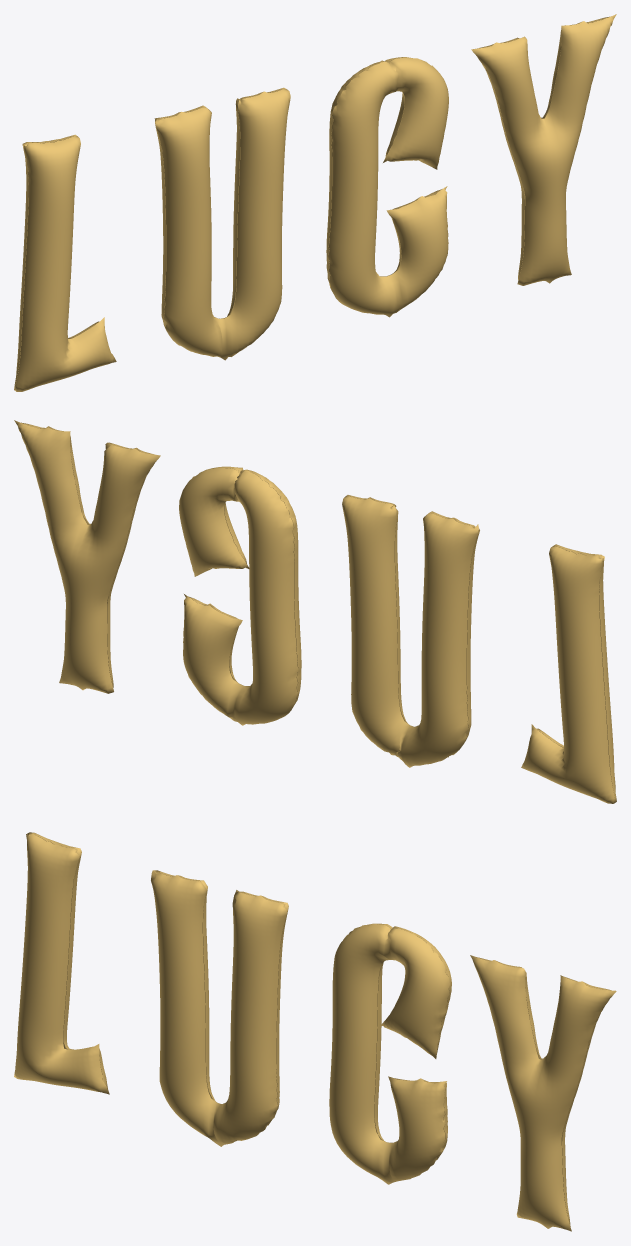
The picture shows the model from 3 angles, top to bottom: view 1: azimuth 30°, elevation 25°; view 2: azimuth 150°, elevation 25°; view 3: azimuth 330°, elevation 25°; orthographic projection.
Visible parts, largest first — view 1: Balloon.U_21, Balloon.C_3, Balloon.Y_24, Balloon.L_12; view 2: Balloon.U_21, Balloon.C_3, Balloon.Y_24, Balloon.L_12; view 3: Balloon.U_21, Balloon.C_3, Balloon.Y_24, Balloon.L_12.
Part boxes in pixels (box(x1,y1,x2,y2)): Balloon.U_21: box(154, 87, 290, 360); Balloon.C_3: box(326, 57, 448, 317); Balloon.Y_24: box(471, 14, 616, 285); Balloon.L_12: box(14, 134, 116, 391); Balloon.U_21: box(342, 495, 479, 767); Balloon.C_3: box(179, 466, 301, 725); Balloon.Y_24: box(14, 420, 160, 693); Balloon.L_12: box(521, 544, 616, 803); Balloon.U_21: box(151, 870, 288, 1146); Balloon.C_3: box(329, 923, 451, 1184); Balloon.Y_24: box(470, 955, 616, 1231); Balloon.L_12: box(14, 832, 109, 1094).
Size of the model in its own units: 1.3 by 0.547 by 0.1057.
